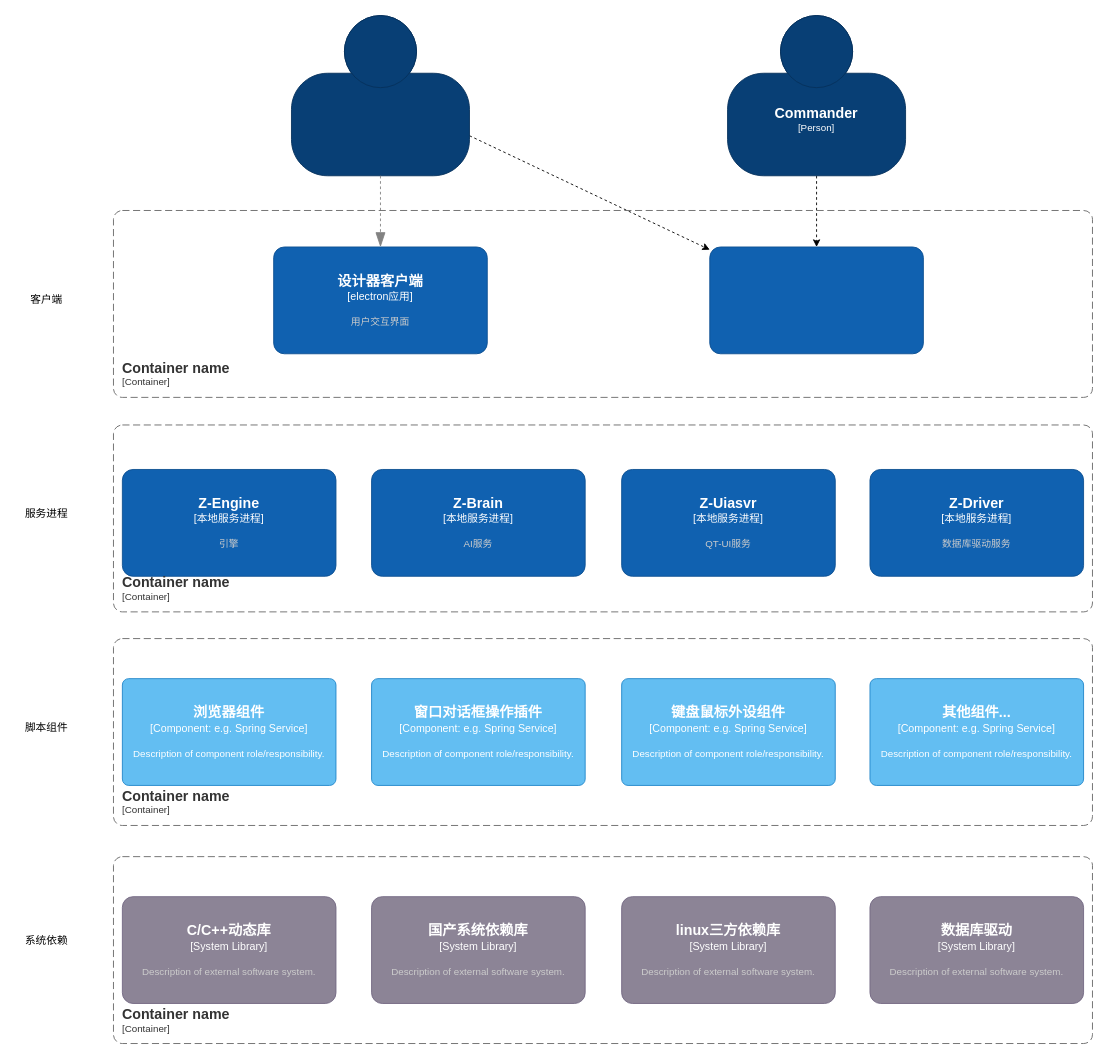
The diagram is 1108 pixels wide and 1059 high, and some of its shapes have lost their labels. The shapes that lost their labels are listed below. From the top down, each one's centre as x and y in pixels, then its label:
point 380,95: RPA用户 [Person]
point 816,300: 机器人客户端 [electron应用] 用户交互界面
